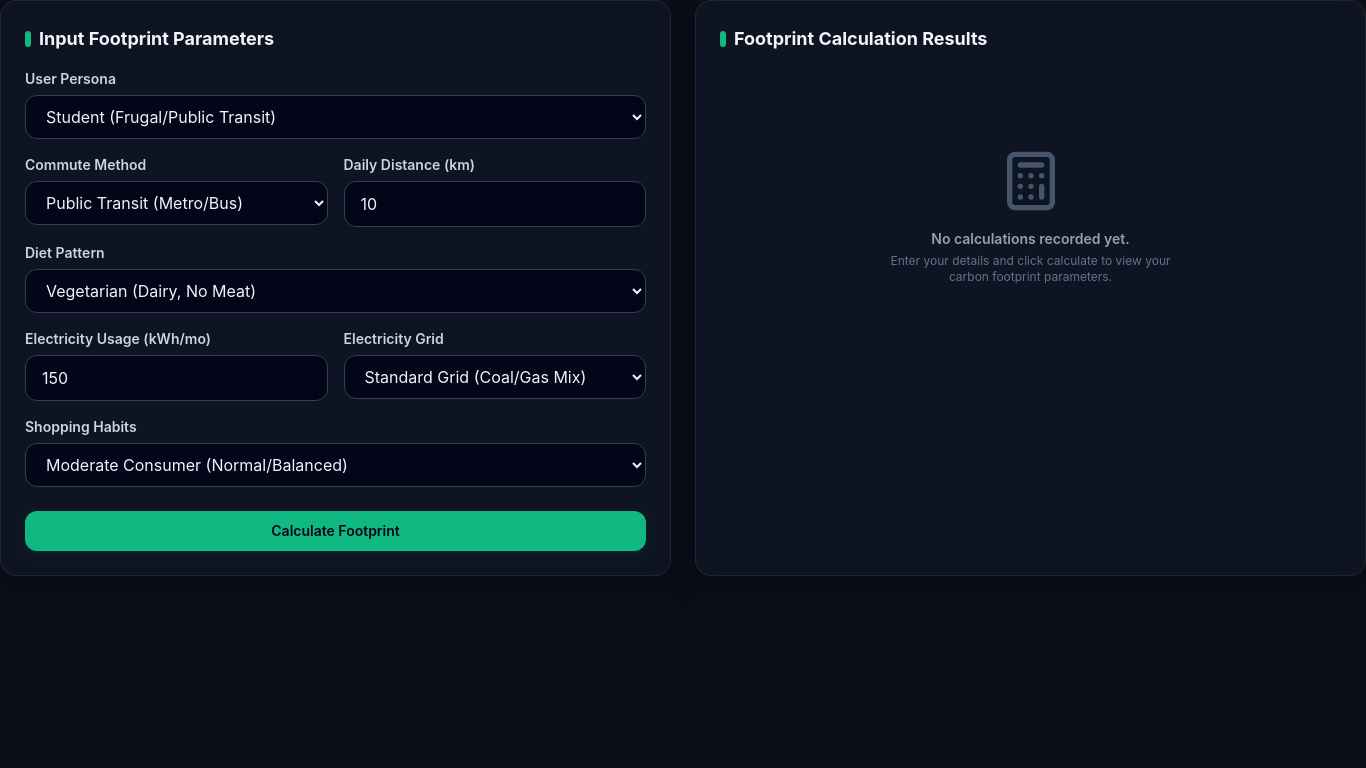
Test: CarbonCalculator Component › displays API error messages gracefully on failure
Click the button "Calculate Footprint" at [336, 531], box [25, 511, 646, 551]
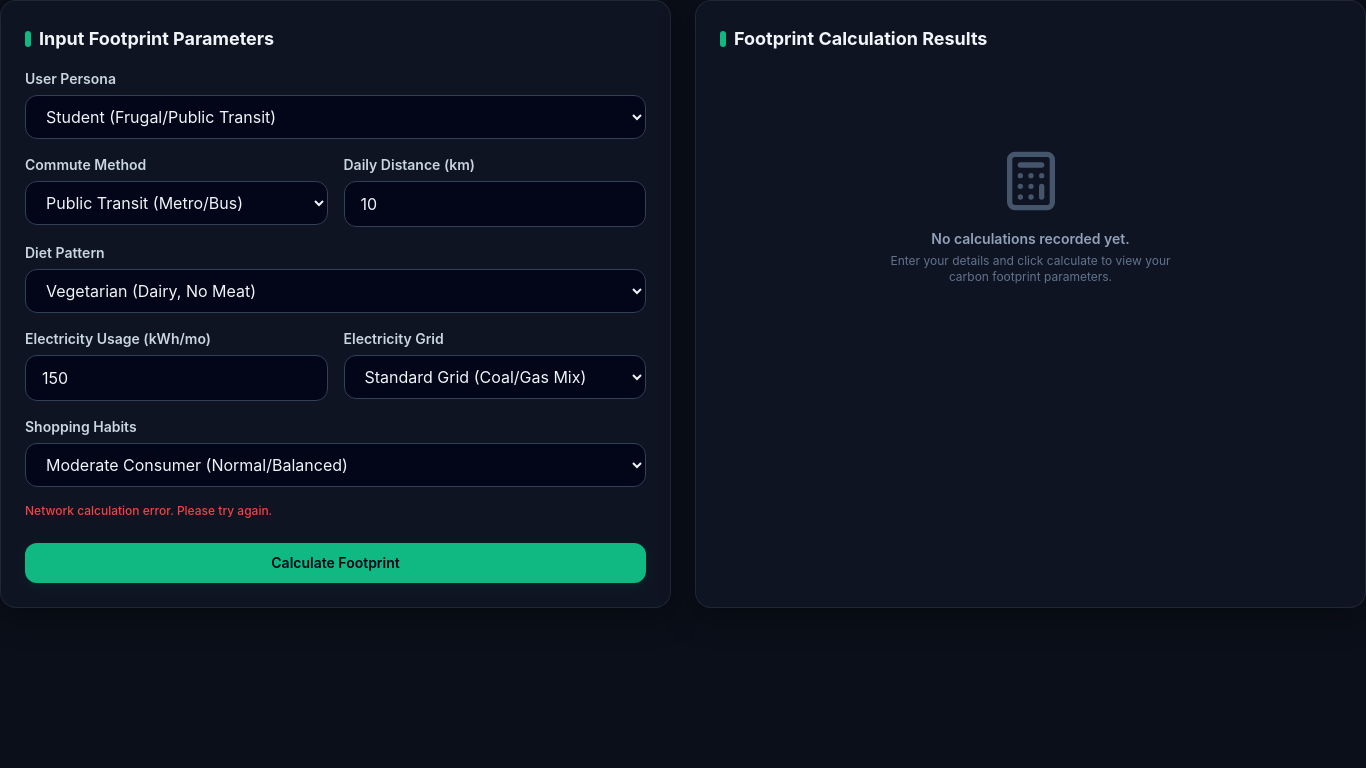
Expected: the text "Network calculation error. Please try again." is shown, [25, 503, 272, 518]
